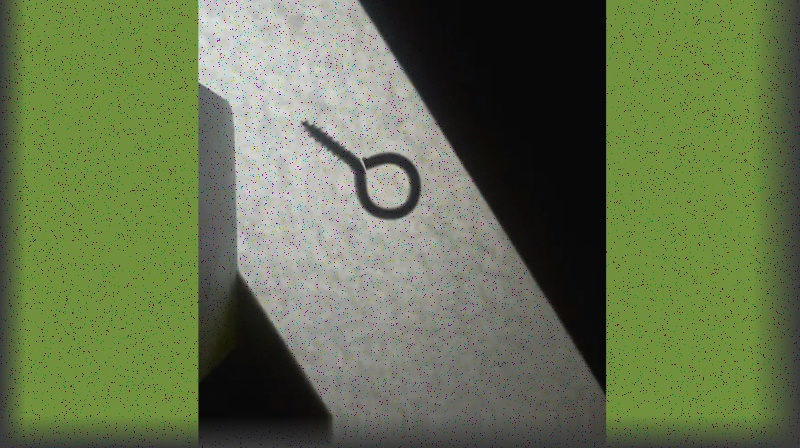O001: (297, 117, 422, 222)
